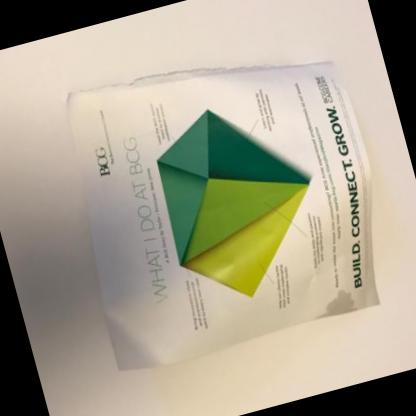Paper: (66, 62, 378, 370)
